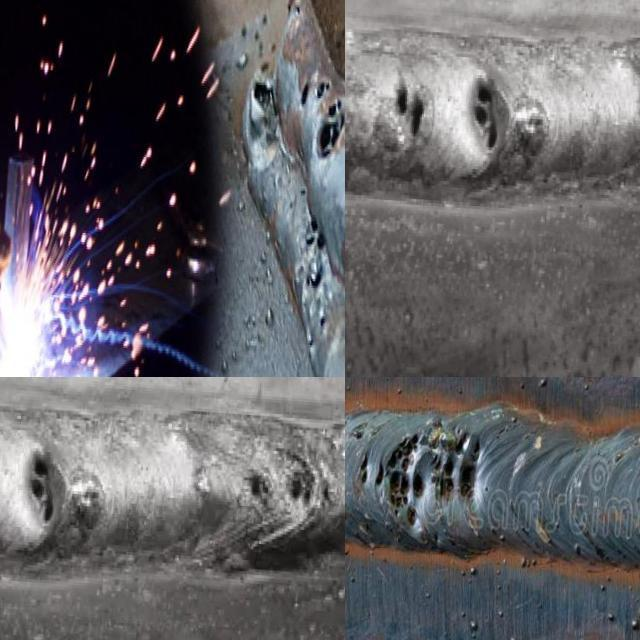defect: (466, 65, 513, 172), (373, 431, 424, 528), (294, 72, 345, 161), (388, 64, 432, 155), (428, 430, 482, 501), (24, 444, 58, 534), (248, 76, 281, 150), (282, 465, 332, 511), (240, 461, 278, 509), (304, 212, 326, 253), (305, 262, 324, 296), (357, 451, 369, 484), (293, 2, 301, 21), (299, 183, 308, 198), (290, 193, 297, 211), (319, 312, 326, 329), (309, 337, 313, 347)
